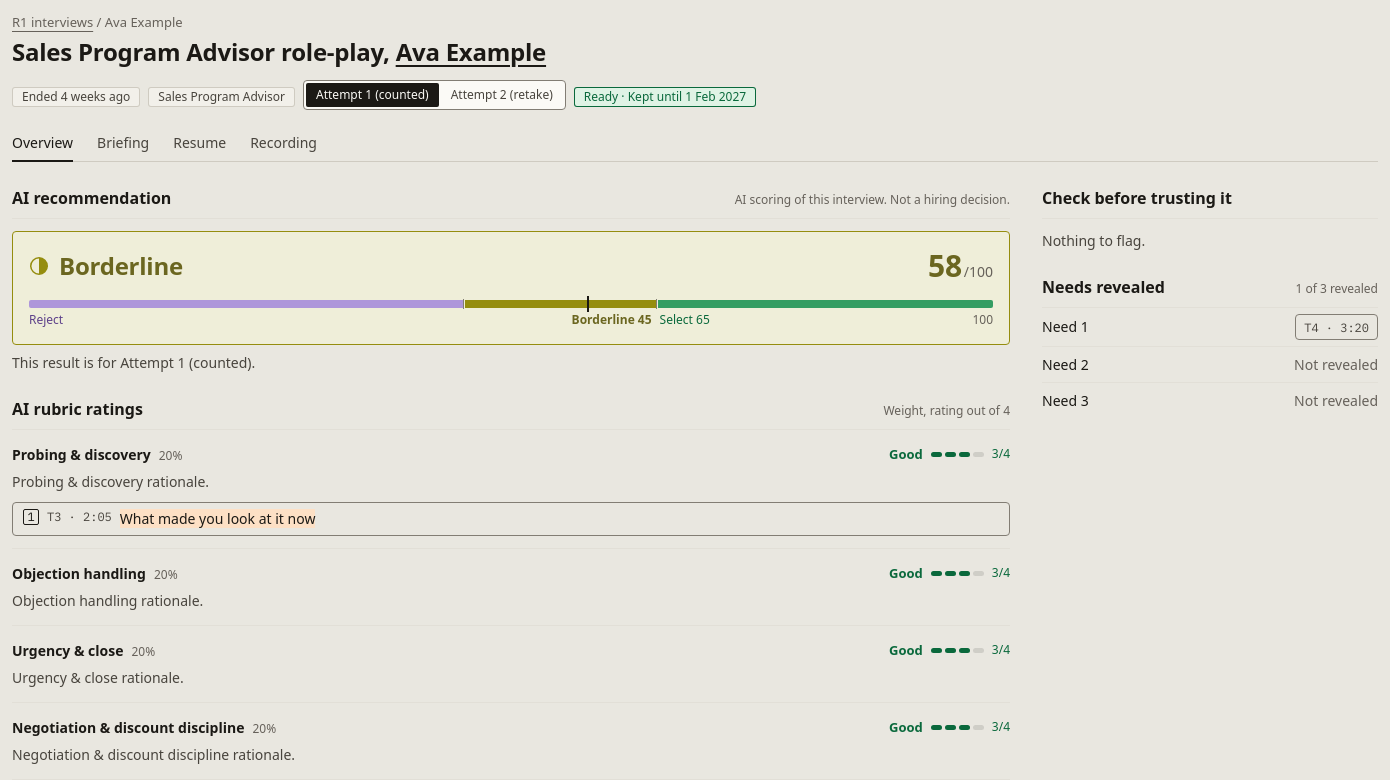
it: the header › offers a switcher when there are two attempts, and it changes the recording
The image size is (1390, 780).
Check: the element named "R1 review sections" is shown, box [12,126,1378,162]
Step 1. Click the button "Attempt 2 (retake)" → (502, 95), box [441,83,563,107]
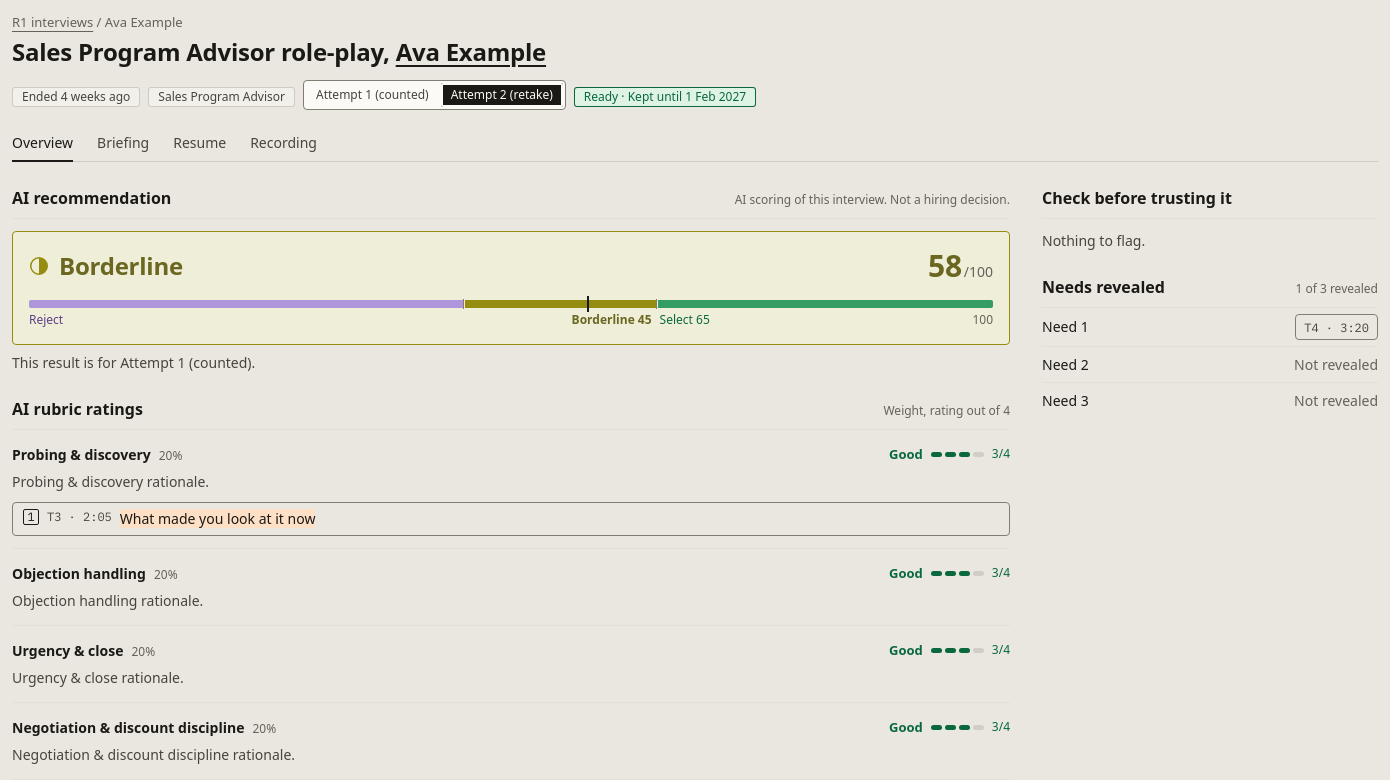
Step 2. Click the tab "Recording" → (284, 144), box [250,126,317,162]
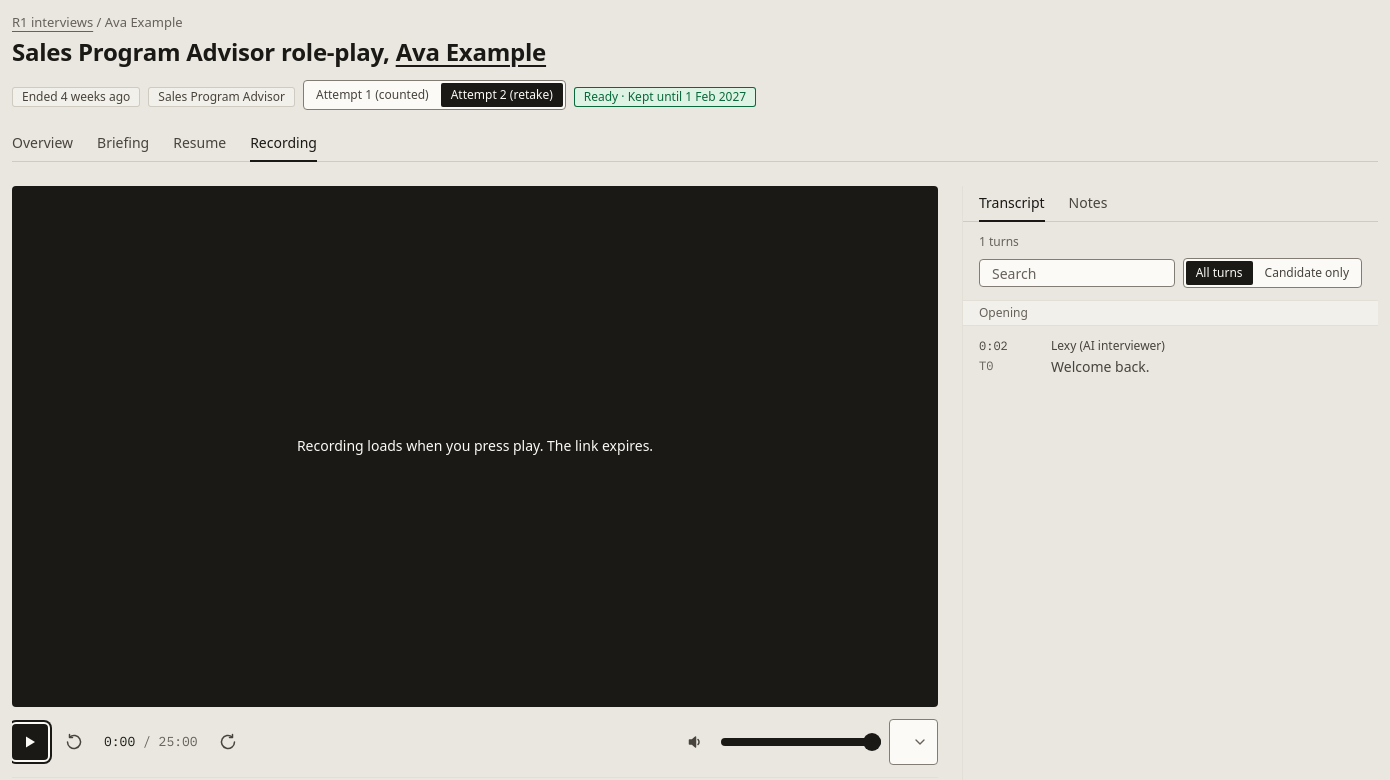
Check: the text "Welcome back." is shown, box [1051,357,1150,376]
